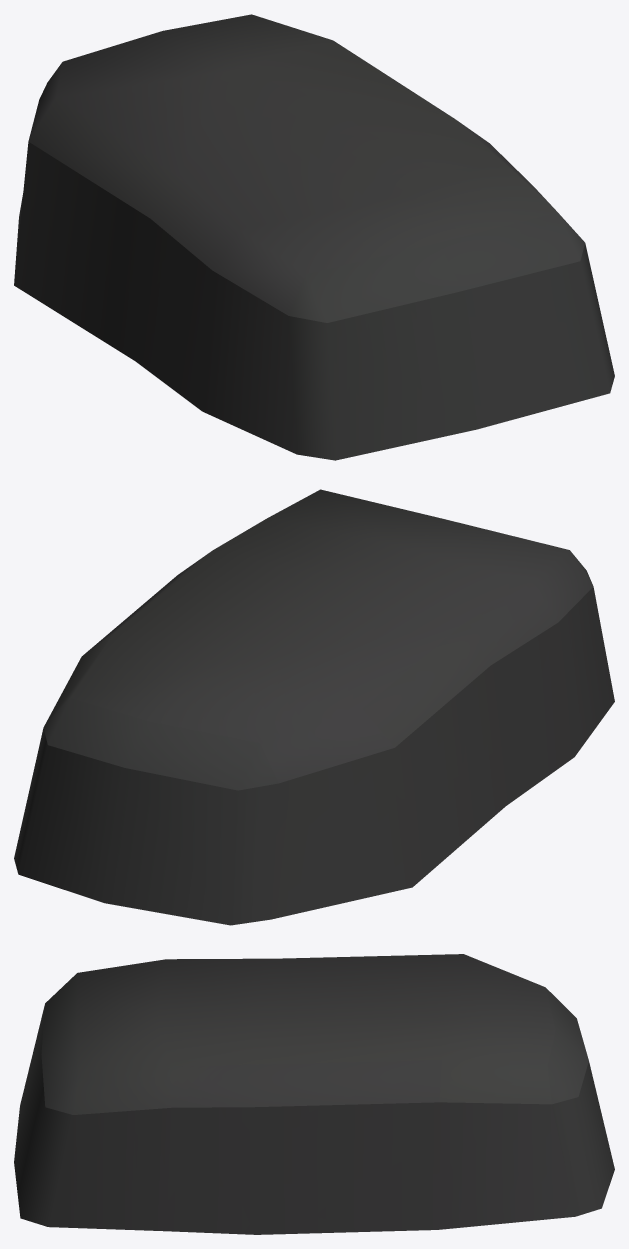
The model's file is Brick_5_2.obj.
The picture shows the model from 3 angles, top to bottom: view 1: azimuth 30°, elevation 25°; view 2: azimuth 150°, elevation 25°; view 3: azimuth 270°, elevation 25°; orthographic projection. The views are drawn at different scales.
Parts seen in each view (by area): view 1: Brick_5_2; view 2: Brick_5_2; view 3: Brick_5_2.
Part boxes in pixels (<box>): Brick_5_2: <box>14,14,614,460</box>; Brick_5_2: <box>14,489,614,925</box>; Brick_5_2: <box>14,954,614,1234</box>.
Bounding box in the file's own units: 0.1515 × 0.0674 × 0.2489.
